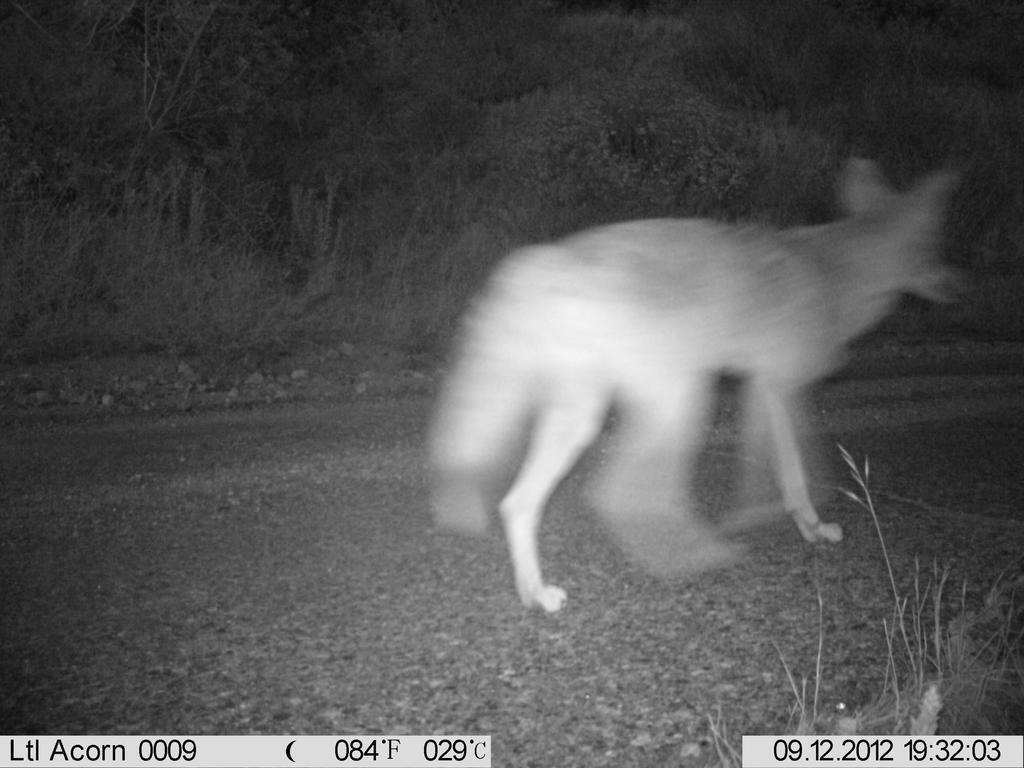coyote: (423, 150, 975, 621)
